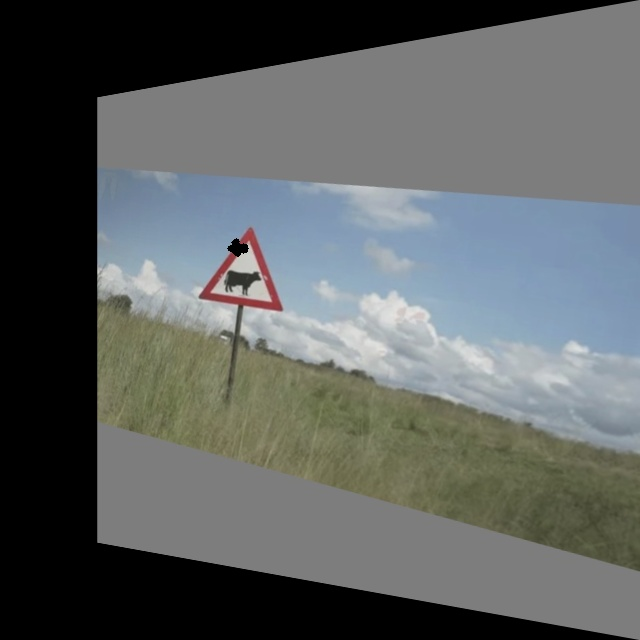Cattle: (201, 219, 292, 315)
